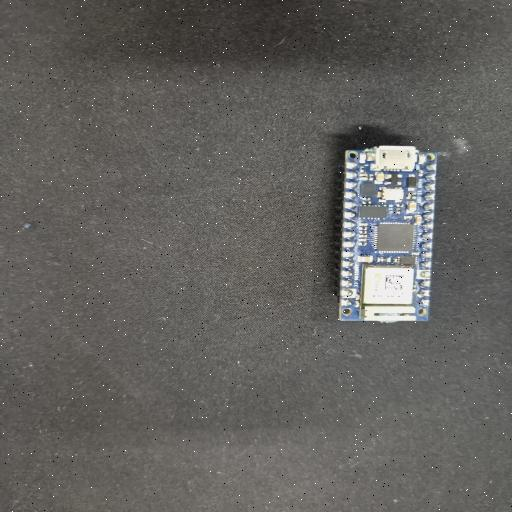arduino-nano-iot-33: (343, 147, 431, 324)
